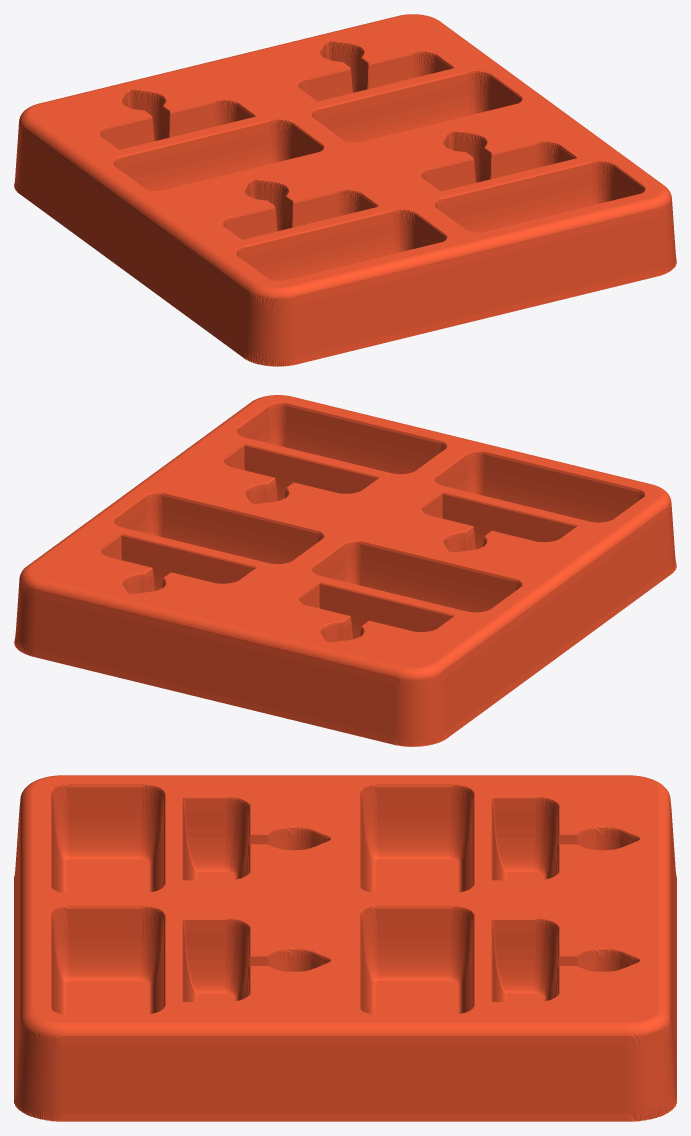
The model's file is mold.glb.
3 renders of one model, top to bottom at view 1: azimuth 30°, elevation 25°; view 2: azimuth 150°, elevation 25°; view 3: azimuth 270°, elevation 25°, orthographic. The views are drawn at different scales.
Parts seen in each view (by area): view 1: geometry_0; view 2: geometry_0; view 3: geometry_0.
Boxes of the visible parts, x1=… form: geometry_0: x1=14, y1=14, x2=676, y2=366; geometry_0: x1=14, y1=395, x2=676, y2=746; geometry_0: x1=14, y1=775, x2=676, y2=1121.
Size of the model in its own units: 0.114 by 0.0185 by 0.1218.
